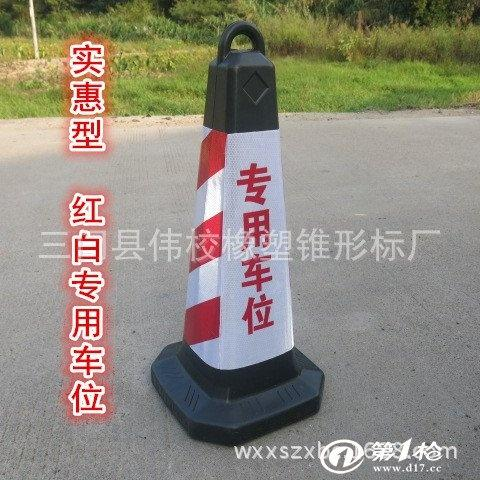cone_barrel: (172, 18, 306, 414)
